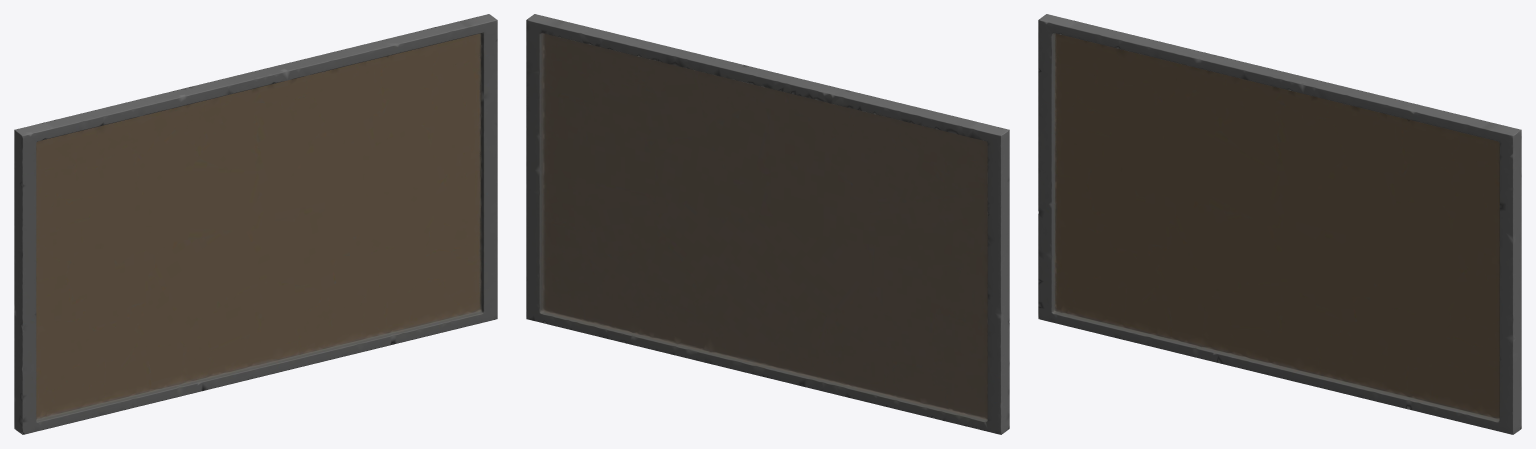
File: Corkboard.fbx
The picture shows the model from 3 angles, left to right: view 1: azimuth 30°, elevation 25°; view 2: azimuth 150°, elevation 25°; view 3: azimuth 330°, elevation 25°; orthographic projection.
Parts seen in each view (by area): view 1: Mesh_0; view 2: Mesh_0; view 3: Mesh_0.
Boxes of the visible parts, left/top/right/bottom form: Mesh_0: left=14, top=14, right=497, bottom=434; Mesh_0: left=526, top=14, right=1009, bottom=434; Mesh_0: left=1038, top=14, right=1521, bottom=434.
Bounding box in the file's own units: 190 × 5.98 × 114.
1 material, 1 textured.
